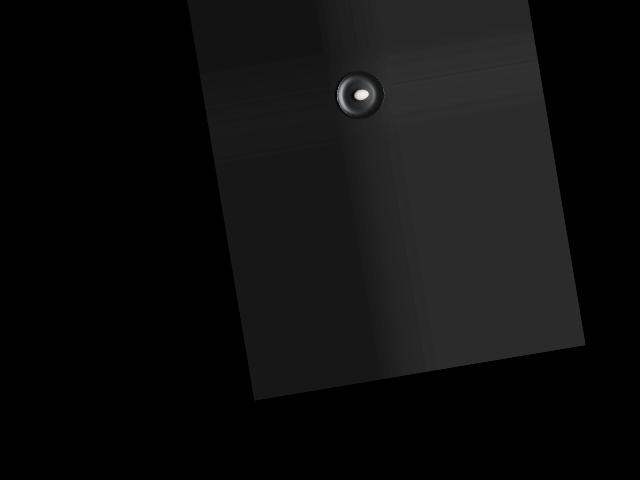egg: (352, 88, 369, 101)
